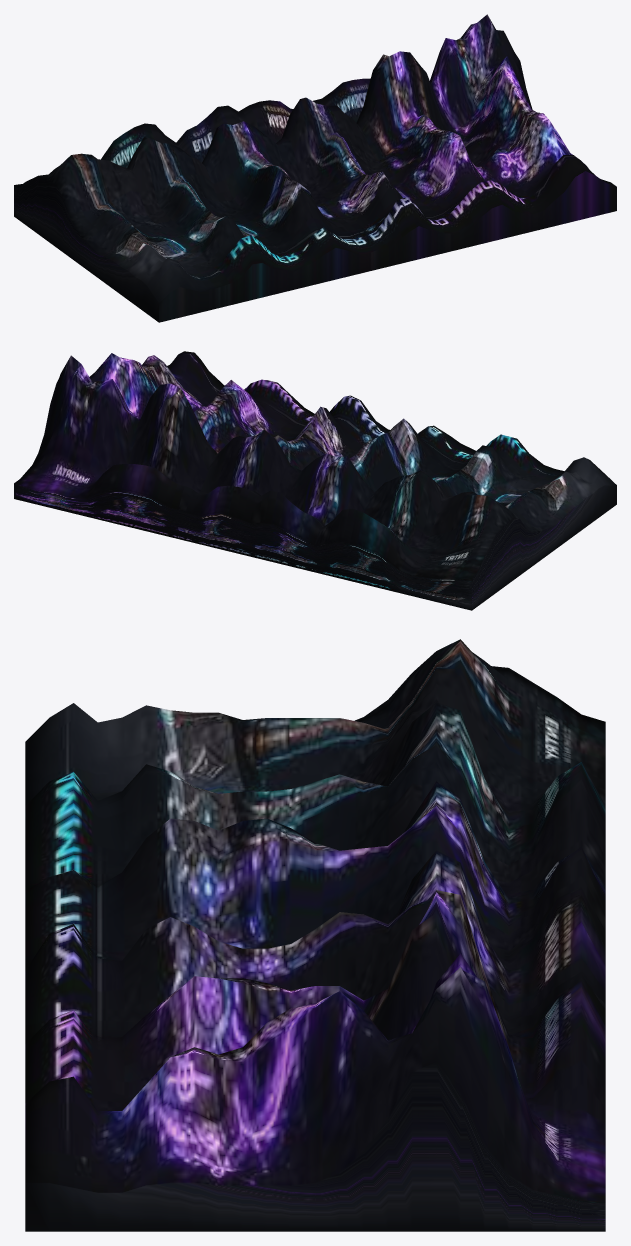
File: ARSENAL_Hammer_6Tier.glb
3 renders of one model, top to bottom at view 1: azimuth 30°, elevation 25°; view 2: azimuth 150°, elevation 25°; view 3: azimuth 270°, elevation 25°, orthographic. The views are drawn at different scales.
Parts seen in each view (by area): view 1: ARSENAL_Hammer_6Tier; view 2: ARSENAL_Hammer_6Tier; view 3: ARSENAL_Hammer_6Tier.
Boxes of the visible parts, box(x1,y1,x2,y2) form: ARSENAL_Hammer_6Tier: box(14, 14, 616, 322); ARSENAL_Hammer_6Tier: box(14, 351, 616, 610); ARSENAL_Hammer_6Tier: box(25, 639, 605, 1231).
Size of the model in its own units: 2 by 0.51 by 1.1.
Materials: 1 (1 with a texture image).
